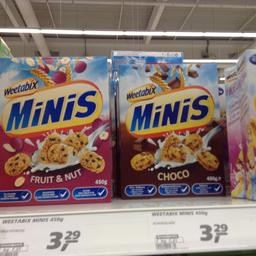cereal: (0, 54, 111, 204), (116, 62, 228, 198)
